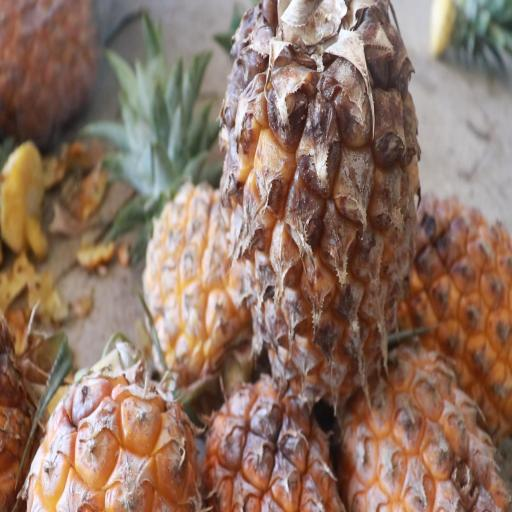Pineapple - v8 v1: (220, 0, 427, 411), (142, 80, 270, 394), (28, 318, 209, 512), (334, 333, 510, 512), (200, 356, 340, 512)
